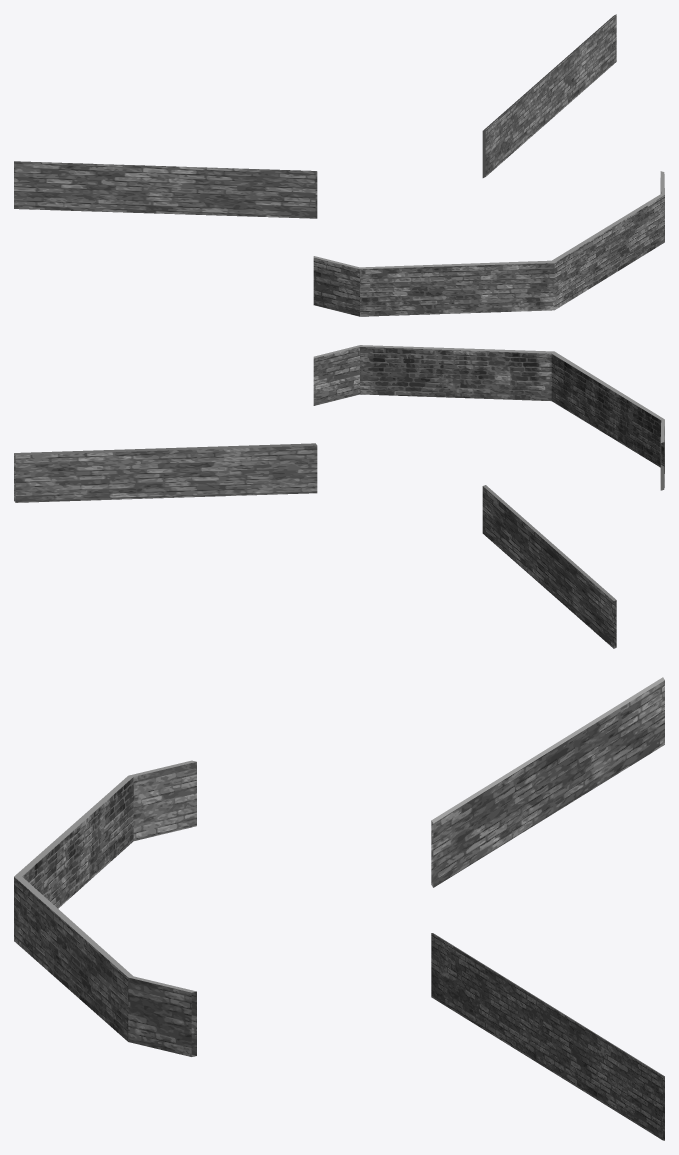
File: InviWalls.fbx
The picture shows the model from 3 angles, top to bottom: view 1: azimuth 30°, elevation 25°; view 2: azimuth 150°, elevation 25°; view 3: azimuth 270°, elevation 25°; orthographic projection. The views are drawn at different scales.
Visible parts, largest first — view 1: InviWalls; view 2: InviWalls; view 3: InviWalls.
Boxes of the visible parts, x1,y1,x2,y2 form: InviWalls: (14, 14, 664, 316); InviWalls: (14, 345, 664, 648); InviWalls: (14, 677, 664, 1140).
Size of the model in its own units: 293 by 22.69 by 202.
1 material, 1 textured.
